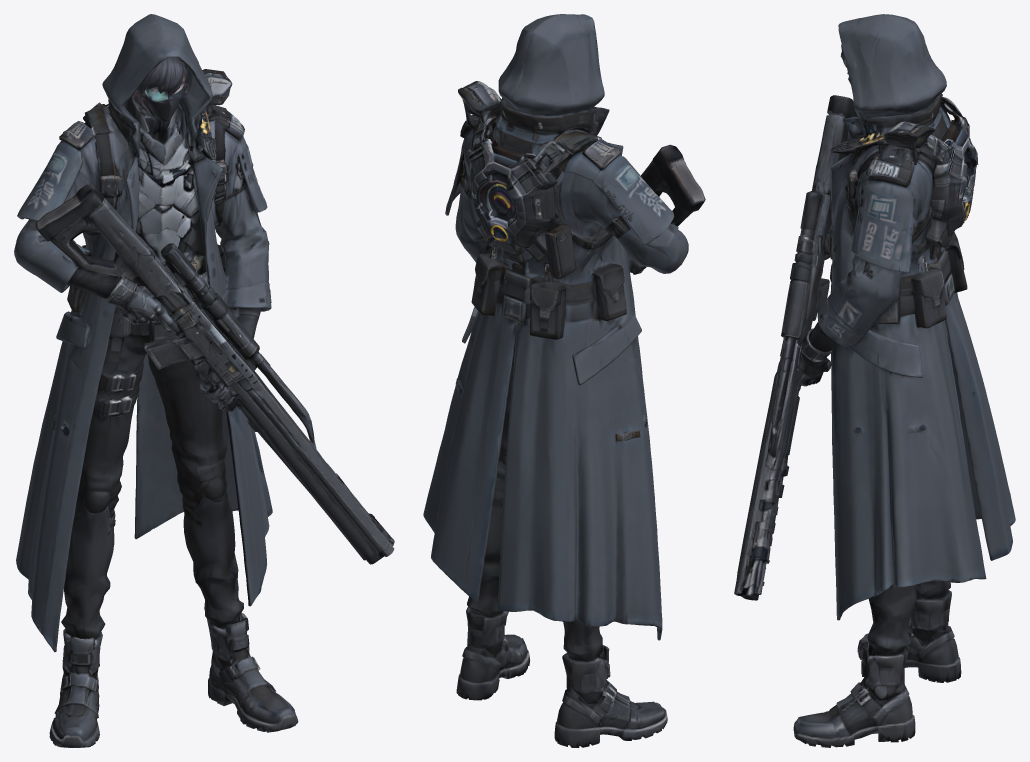
File: npc2.glb
3 views of the same model, side by side, from view 1: azimuth 30°, elevation 25°; view 2: azimuth 150°, elevation 25°; view 3: azimuth 270°, elevation 25° (orthographic). The views are drawn at different scales.
Visible parts, largest first — view 1: tripo_node_86bbeb39-ca36-4759-91dd-763ce0eb4ac2; view 2: tripo_node_86bbeb39-ca36-4759-91dd-763ce0eb4ac2; view 3: tripo_node_86bbeb39-ca36-4759-91dd-763ce0eb4ac2.
Part boxes in pixels (box(x1,y1,x2,y2)): tripo_node_86bbeb39-ca36-4759-91dd-763ce0eb4ac2: box(14, 14, 394, 747); tripo_node_86bbeb39-ca36-4759-91dd-763ce0eb4ac2: box(423, 14, 705, 747); tripo_node_86bbeb39-ca36-4759-91dd-763ce0eb4ac2: box(734, 14, 1015, 747).
Size of the model in its own units: 0.4405 by 0.9808 by 0.3655.
1 material, 1 textured.
